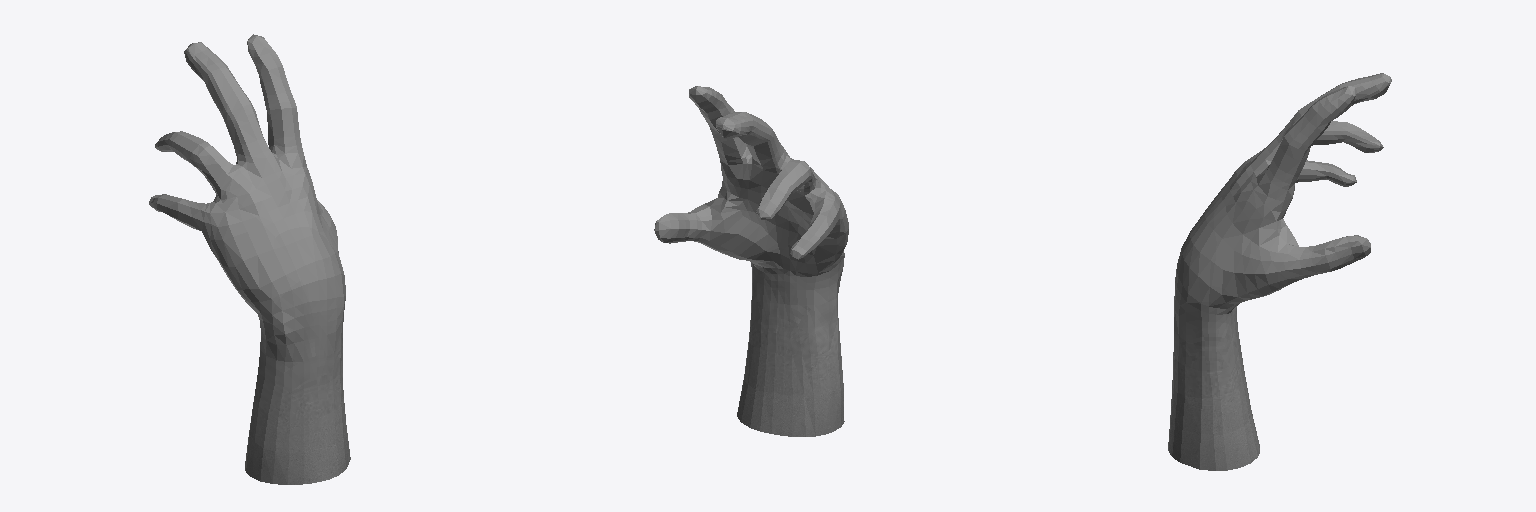
3 renders of one model, left to right at view 1: azimuth 30°, elevation 25°; view 2: azimuth 150°, elevation 25°; view 3: azimuth 270°, elevation 25°, orthographic.
Parts seen in each view (by area): view 1: Hand; view 2: Hand; view 3: Hand.
Part boxes in pixels (x1,y1,x2,y2): Hand: (149, 34, 350, 484); Hand: (654, 86, 848, 436); Hand: (1168, 73, 1391, 470).
Bounding box in the file's own units: 1.12 × 2.66 × 1.44.
1 materials, 1 textured.